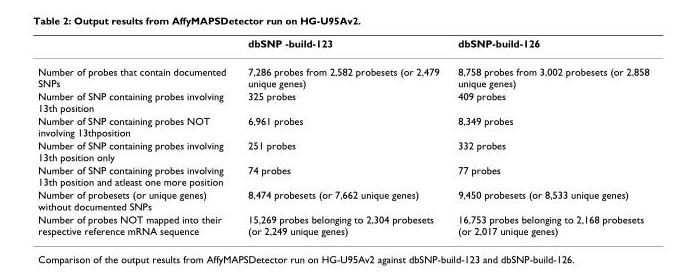table: (37, 36, 648, 236)
table column: (236, 36, 447, 236), (447, 36, 648, 236), (37, 36, 236, 236)
table column header: (37, 36, 648, 57)
table row: (37, 57, 648, 89), (37, 113, 648, 138), (37, 138, 648, 163), (37, 187, 648, 212), (37, 89, 648, 113), (37, 163, 648, 187), (37, 212, 648, 236), (37, 36, 648, 57)
